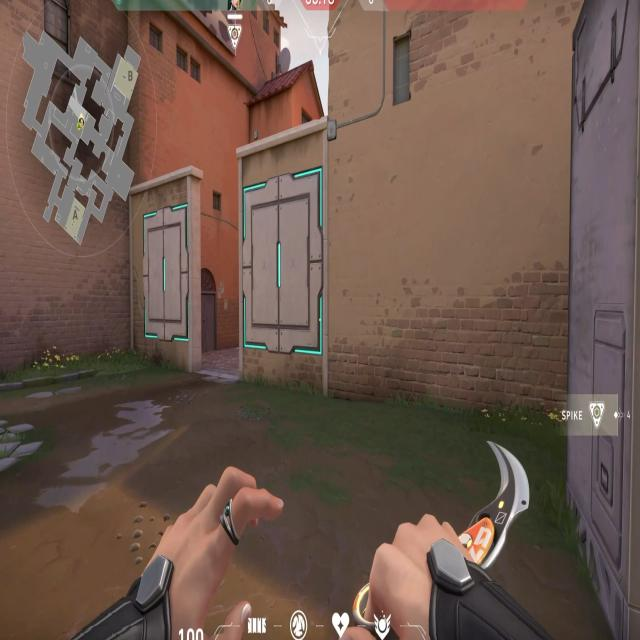Mid_Wall: (230, 142, 333, 387), (122, 182, 209, 380)
